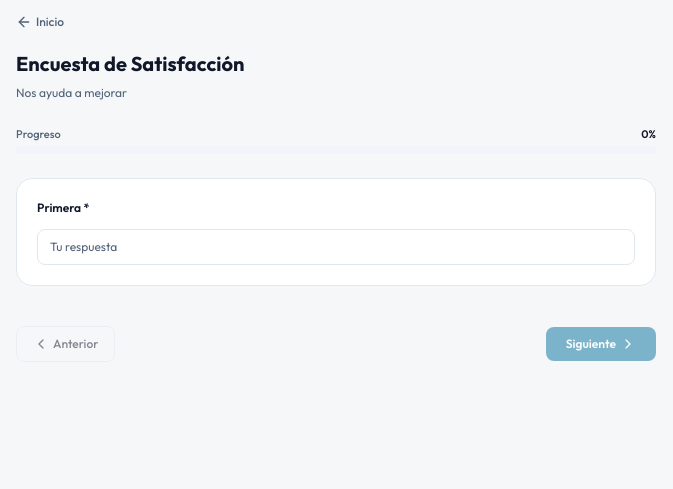
Test: SurveyPublicRenderer — flujo y envío › multi-sección: Siguiente navega y Anterior regresa
This screenshot has width=673, height=489.
Check: the heading "Encuesta de Satisfacción" is shown, box [16,50,244,76]
Type "x" into the field named "Primera". click: (336, 247)
box: [37,229,635,265]
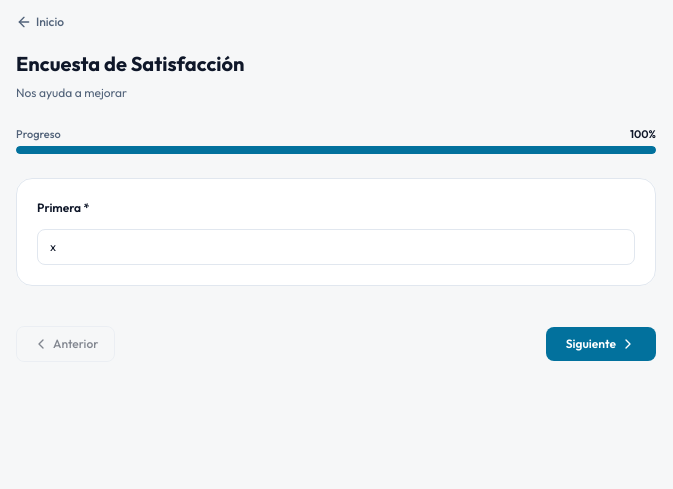
Click the button "Siguiente". click: click(601, 344)
box: [546,327,656,361]
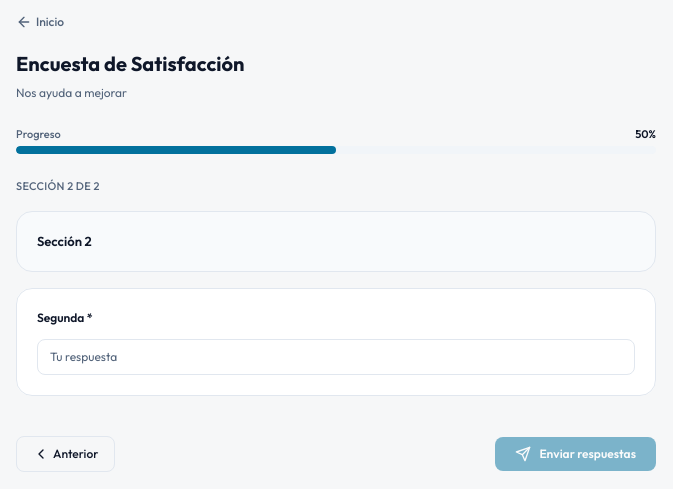
Check: the text "Sección 2 de 2" is shown, box [16,179,100,193]
Click the button "Anterior". click: click(66, 454)
box: [16,436,115,472]
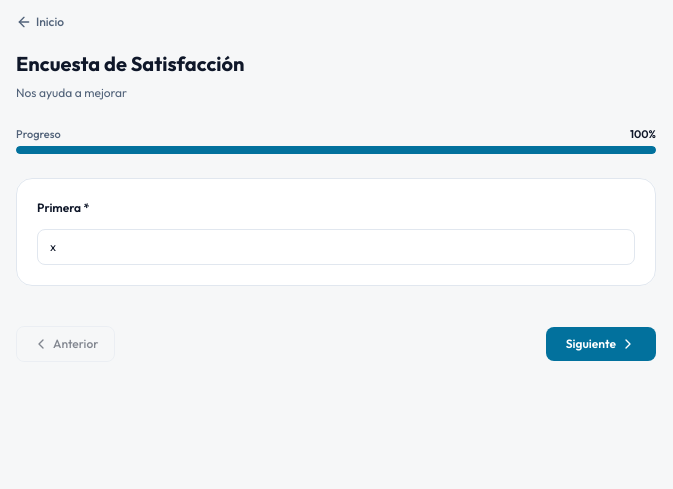
Check: the text "Sección 2 de 2" is gone
Check: the field named "Primera" holds "x", box [37,229,635,265]
